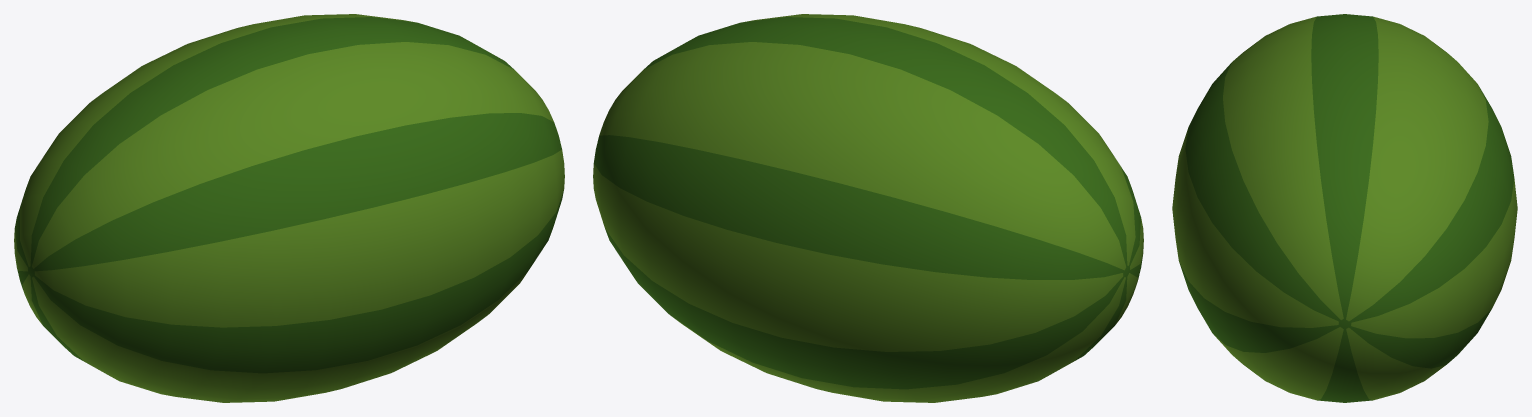
The model's file is Melon_MOD.fbx.
The picture shows the model from 3 angles, left to right: view 1: azimuth 30°, elevation 25°; view 2: azimuth 150°, elevation 25°; view 3: azimuth 270°, elevation 25°; orthographic projection. The views are drawn at different scales.
Visible parts, largest first — view 1: Sphere; view 2: Sphere; view 3: Sphere.
Part boxes in pixels (x1,y1,x2,y2): Sphere: (14, 14, 564, 402); Sphere: (593, 14, 1143, 402); Sphere: (1172, 14, 1517, 402).
Size of the model in its own units: 86.17 by 54.33 by 54.33.
